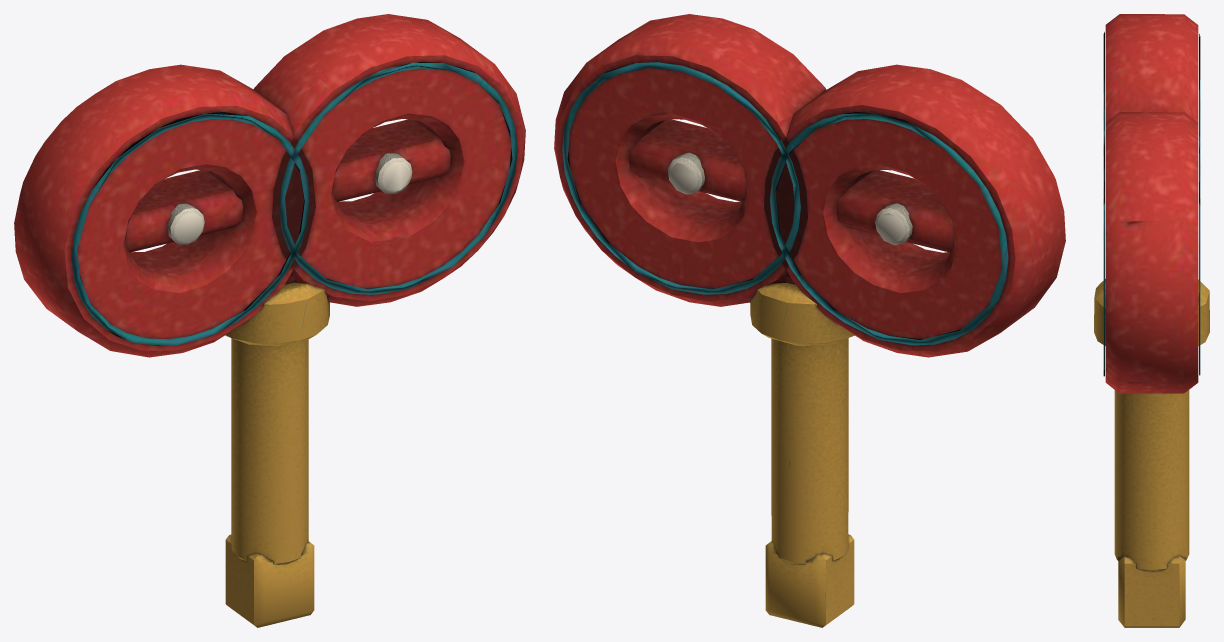
3 renders of one model, left to right at view 1: azimuth 30°, elevation 25°; view 2: azimuth 150°, elevation 25°; view 3: azimuth 270°, elevation 25°, orthographic. The views are drawn at different scales.
Visible parts, largest first — view 1: Glossy_tin_red, Polished_brass_accents, Deep_teal_enamel, Cream_rivets; view 2: Glossy_tin_red, Polished_brass_accents, Deep_teal_enamel, Cream_rivets; view 3: Glossy_tin_red, Polished_brass_accents, Deep_teal_enamel.
Boxes of the visible parts, x1=… form: Glossy_tin_red: x1=14, y1=14, x2=525, y2=357; Polished_brass_accents: x1=225, y1=282, x2=329, y2=627; Deep_teal_enamel: x1=71, y1=62, x2=517, y2=345; Cream_rivets: x1=167, y1=153, x2=412, y2=244; Glossy_tin_red: x1=554, y1=14, x2=1065, y2=357; Polished_brass_accents: x1=750, y1=282, x2=854, y2=627; Deep_teal_enamel: x1=562, y1=62, x2=1008, y2=345; Cream_rivets: x1=667, y1=152, x2=912, y2=245; Glossy_tin_red: x1=1105, y1=14, x2=1198, y2=393; Polished_brass_accents: x1=1094, y1=279, x2=1209, y2=627; Deep_teal_enamel: x1=1103, y1=32, x2=1200, y2=376.
Size of the model in its own units: 0.8302 by 0.92 by 0.18.
Materials: 4 (4 with a texture image).
